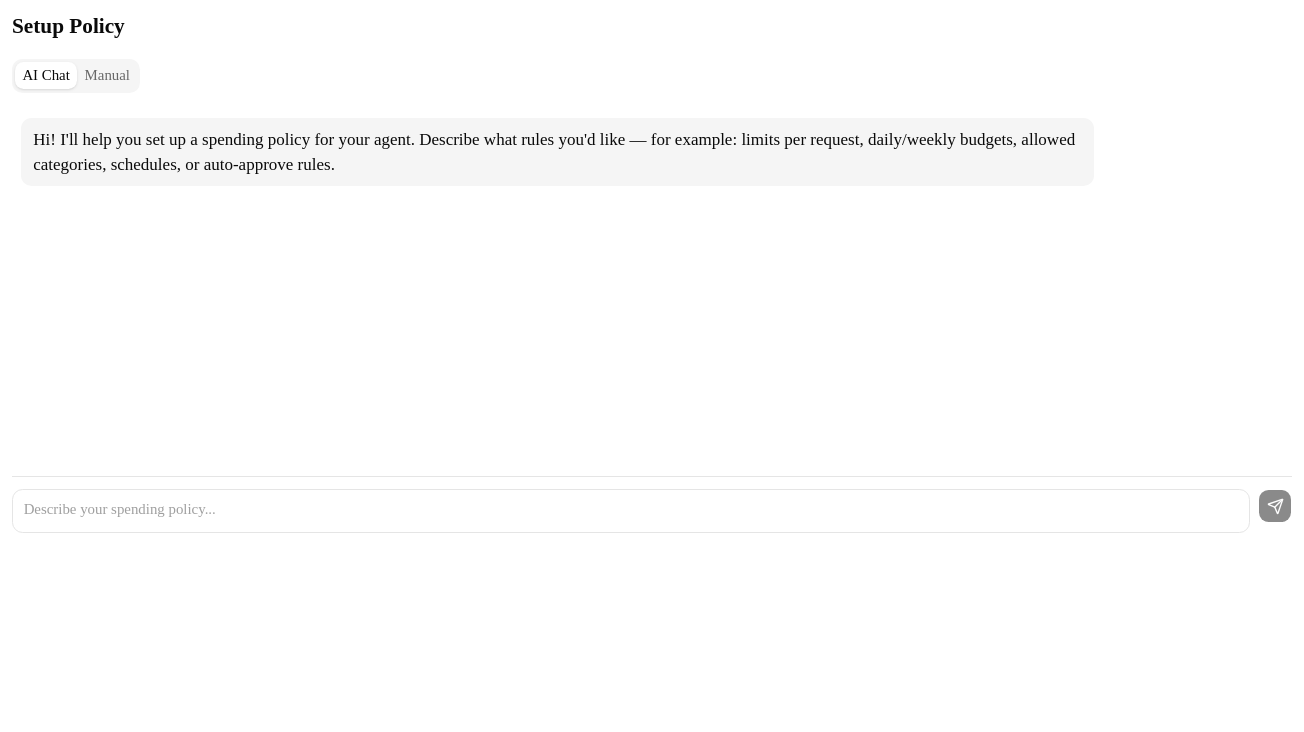
AgentSetupPage › shows error in chat on AI failure
The width and height of the screenshot is (1304, 732).
Type "test" into the text box with placeholder "Describe your spending policy...".
click(631, 511); type("test")  # box [12,489,1250,533]
Then press Enter
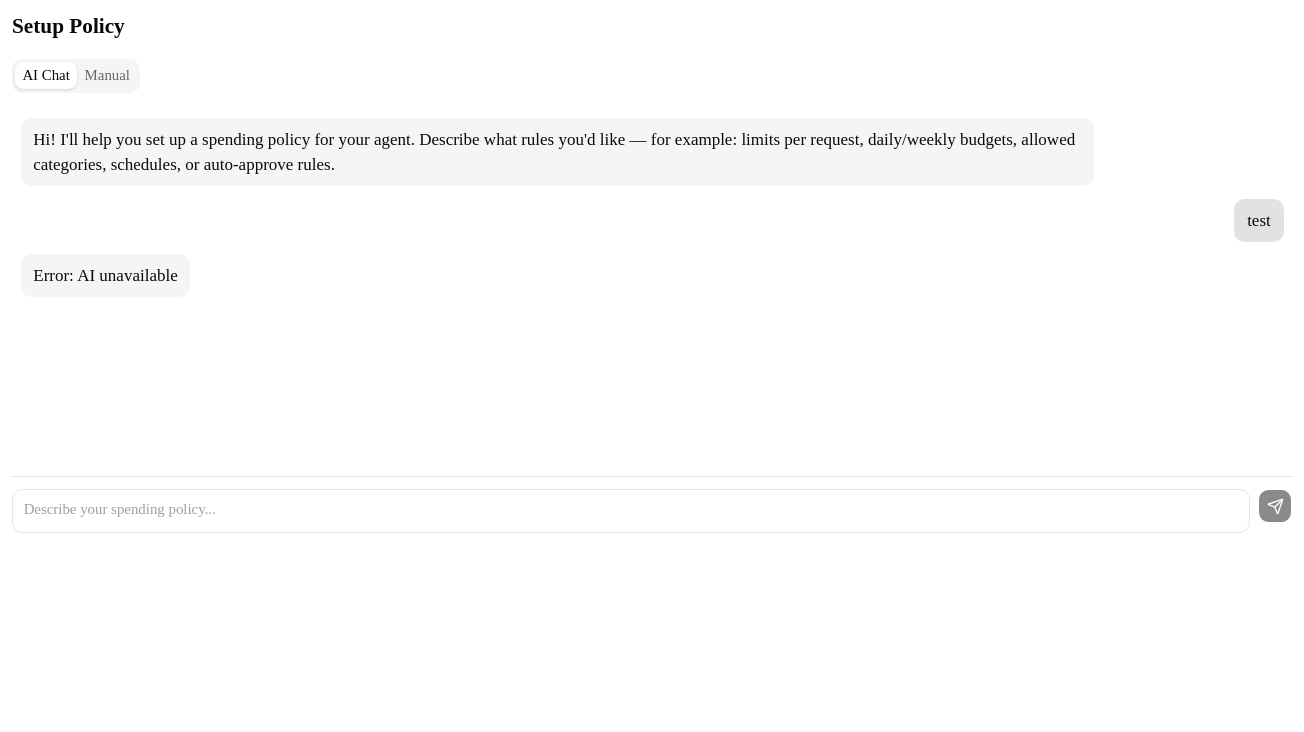
Now the text "Error: AI unavailable" is shown, box [33,263,178,288]
